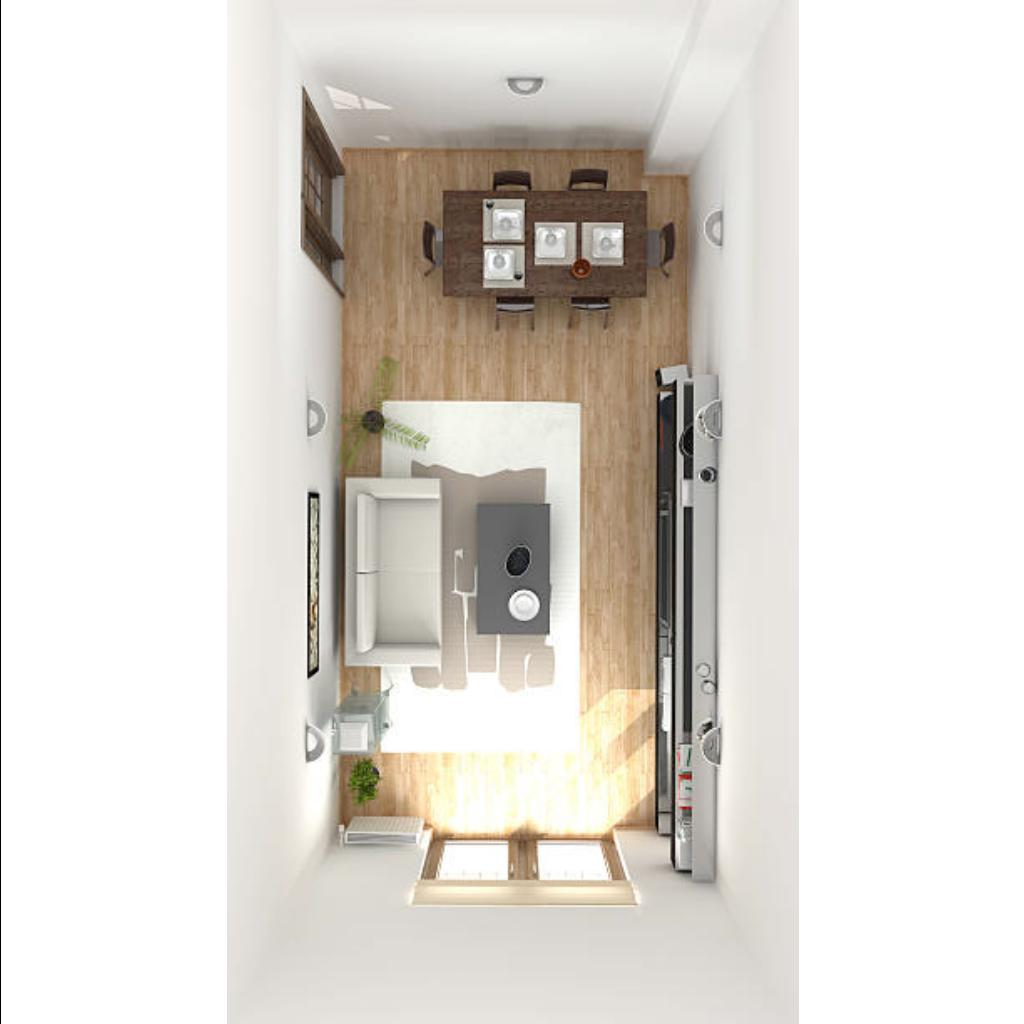TV stand: (656, 374, 718, 638)
bookshelf: (656, 642, 716, 882)
cabinet: (335, 686, 393, 754)
chair: (567, 301, 613, 331), (418, 220, 440, 276), (494, 300, 534, 330), (488, 166, 534, 188), (566, 164, 608, 188)
coffee table: (476, 503, 548, 635)
dining table: (442, 190, 644, 296)
floor plant: (350, 764, 382, 796), (356, 408, 380, 432)
rug: (382, 401, 582, 753)
sofa: (344, 476, 440, 666)
window: (523, 886, 635, 904), (410, 886, 520, 904)
